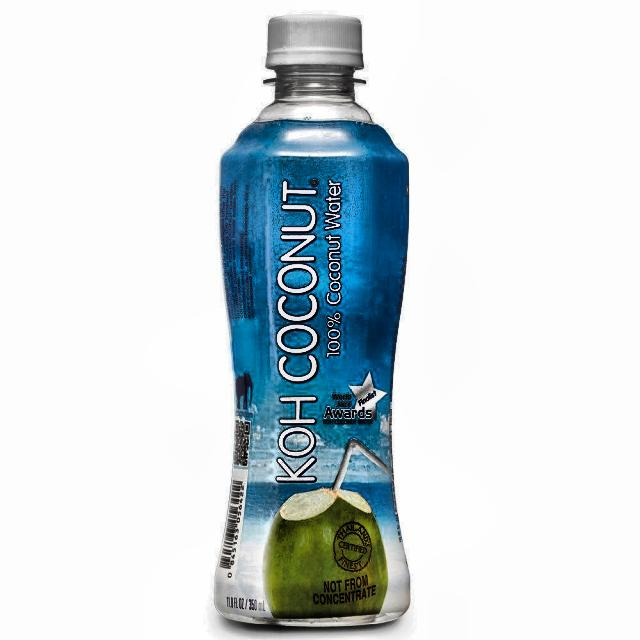plastic bottle: (214, 15, 410, 627)
